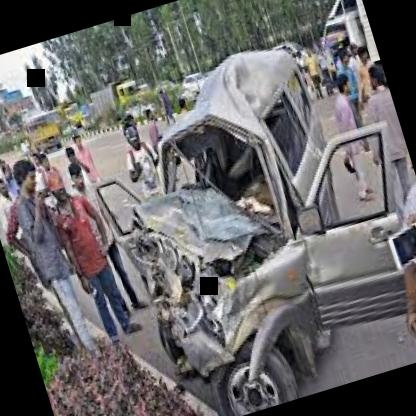accident: (80, 20, 416, 416)
